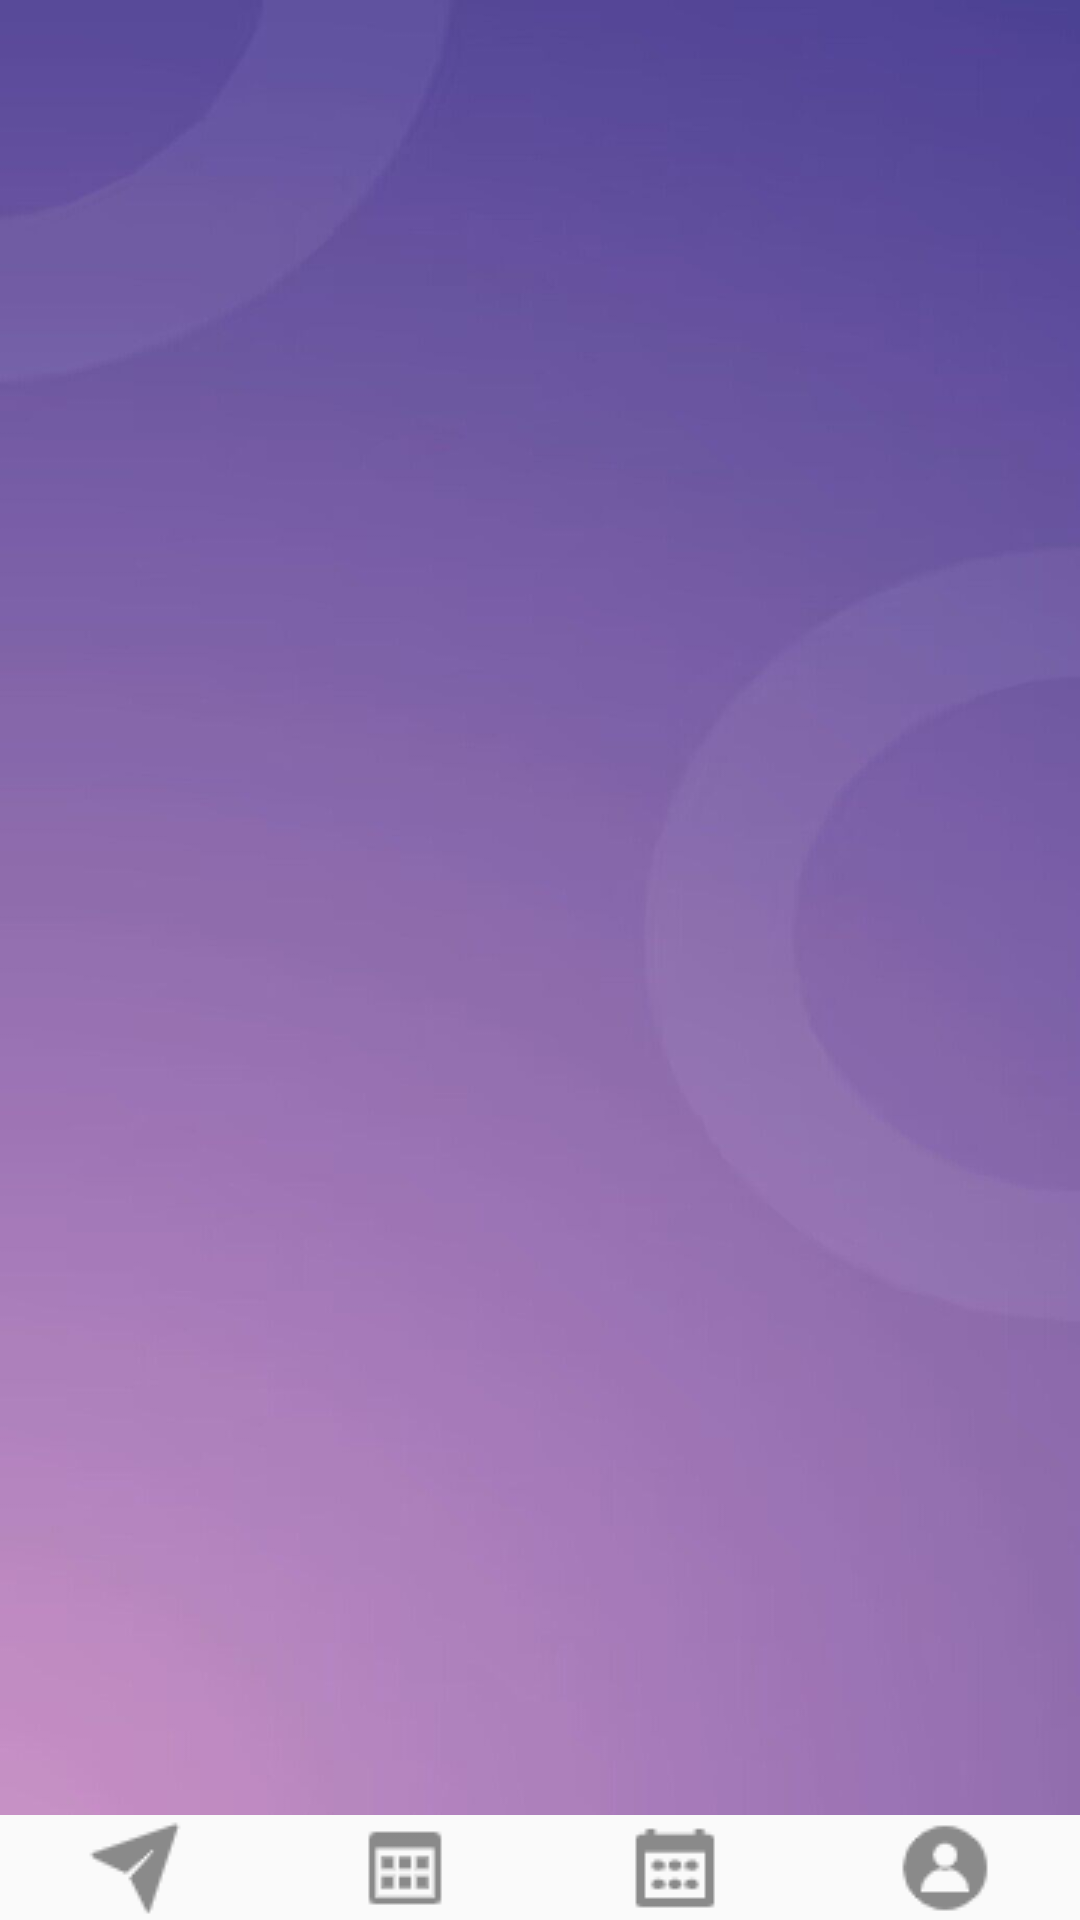

Point at icon controls on the screen. Image size 1080 × 1920, points as [x,y].
course table: [405,1868]
schedule: [675,1868]
